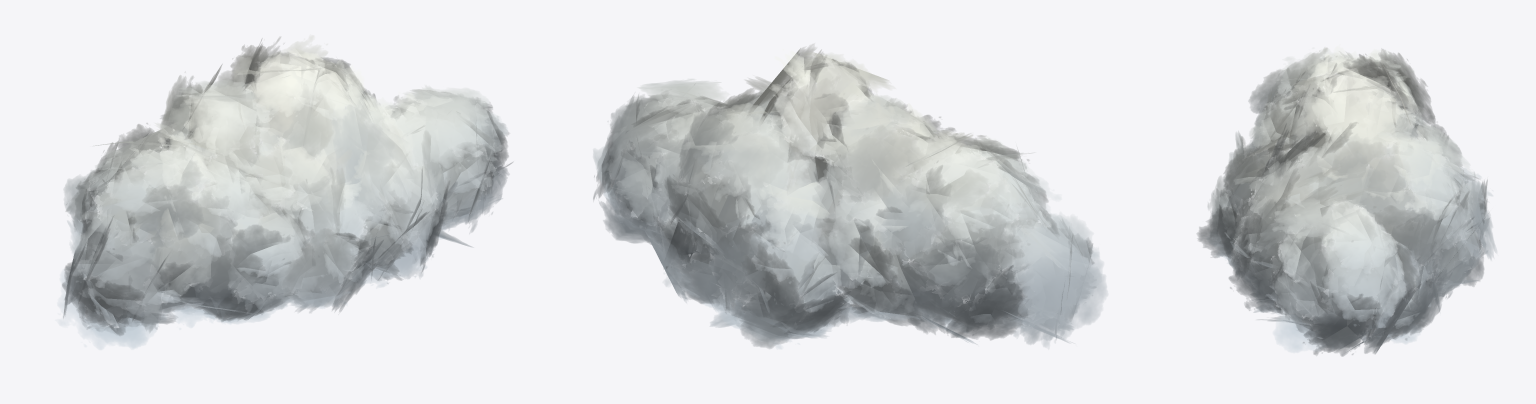
File: cloud.glb
The picture shows the model from 3 angles, left to right: view 1: azimuth 30°, elevation 25°; view 2: azimuth 150°, elevation 25°; view 3: azimuth 270°, elevation 25°; orthographic projection. The views are drawn at different scales.
Visible parts, largest first — view 1: Plane001; view 2: Plane001; view 3: Plane001.
Boxes of the visible parts, x1,y1,x2,y2 form: Plane001: [55, 35, 512, 349]; Plane001: [593, 44, 1107, 349]; Plane001: [1197, 46, 1496, 356].
Bounding box in the file's own units: 1 × 0.5609 × 0.6041.
Materials: 1 (1 with a texture image).
